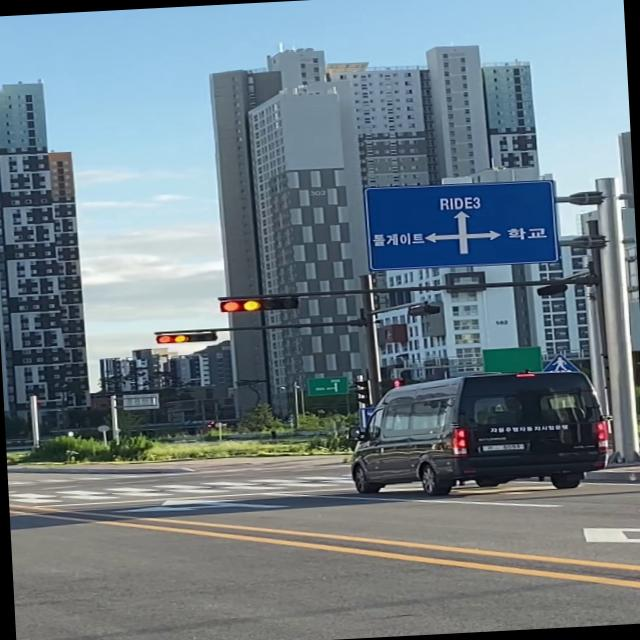yellow_light: (220, 296, 301, 313), (156, 332, 218, 344)
